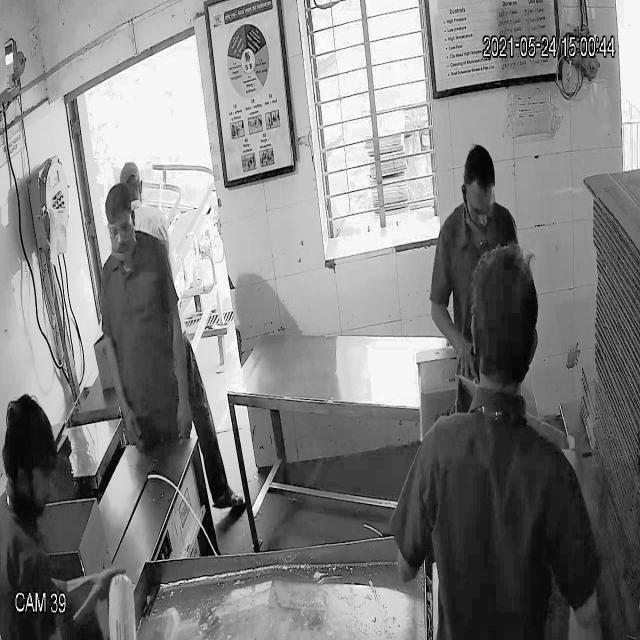glasses: (104, 216, 136, 244)
